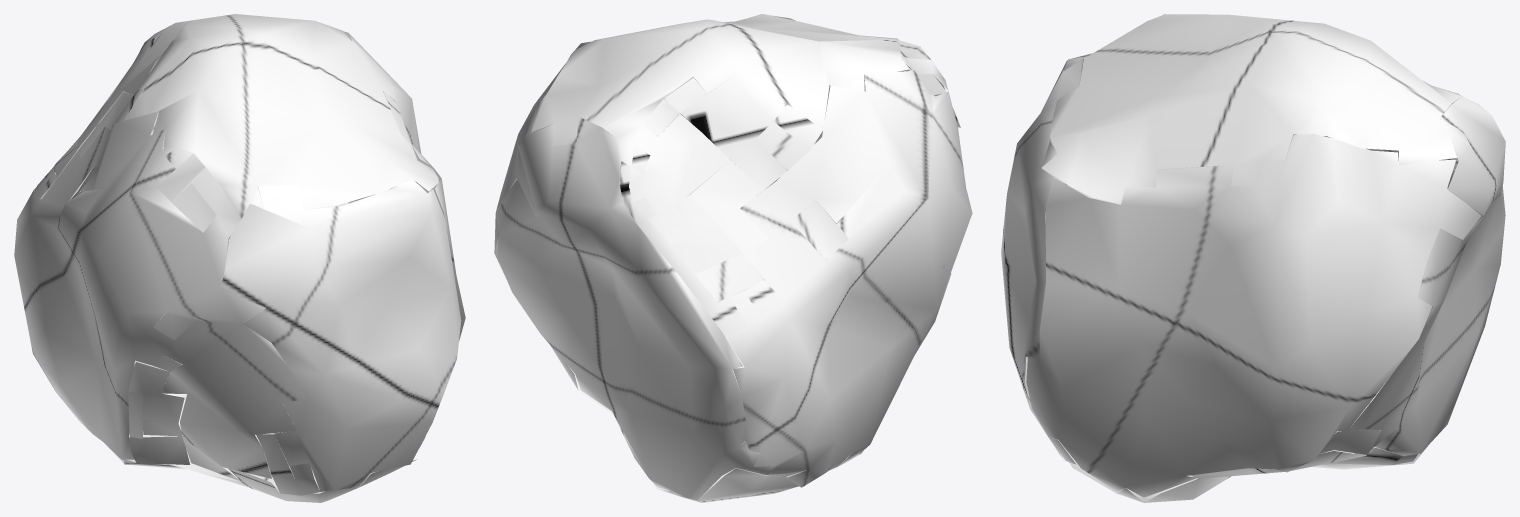
File: asteroide3.obj
The picture shows the model from 3 angles, left to right: view 1: azimuth 30°, elevation 25°; view 2: azimuth 150°, elevation 25°; view 3: azimuth 270°, elevation 25°; orthographic projection. The views are drawn at different scales.
Parts seen in each view (by area): view 1: Asteroid_no_3_Material_#3_0; view 2: Asteroid_no_3_Material_#3_0; view 3: Asteroid_no_3_Material_#3_0.
Boxes of the visible parts, x1,y1,x2,y2 form: Asteroid_no_3_Material_#3_0: (14, 14, 465, 502); Asteroid_no_3_Material_#3_0: (494, 14, 972, 502); Asteroid_no_3_Material_#3_0: (1001, 14, 1505, 502).
Size of the model in its own units: 0.5742 by 0.6211 by 0.6348.
